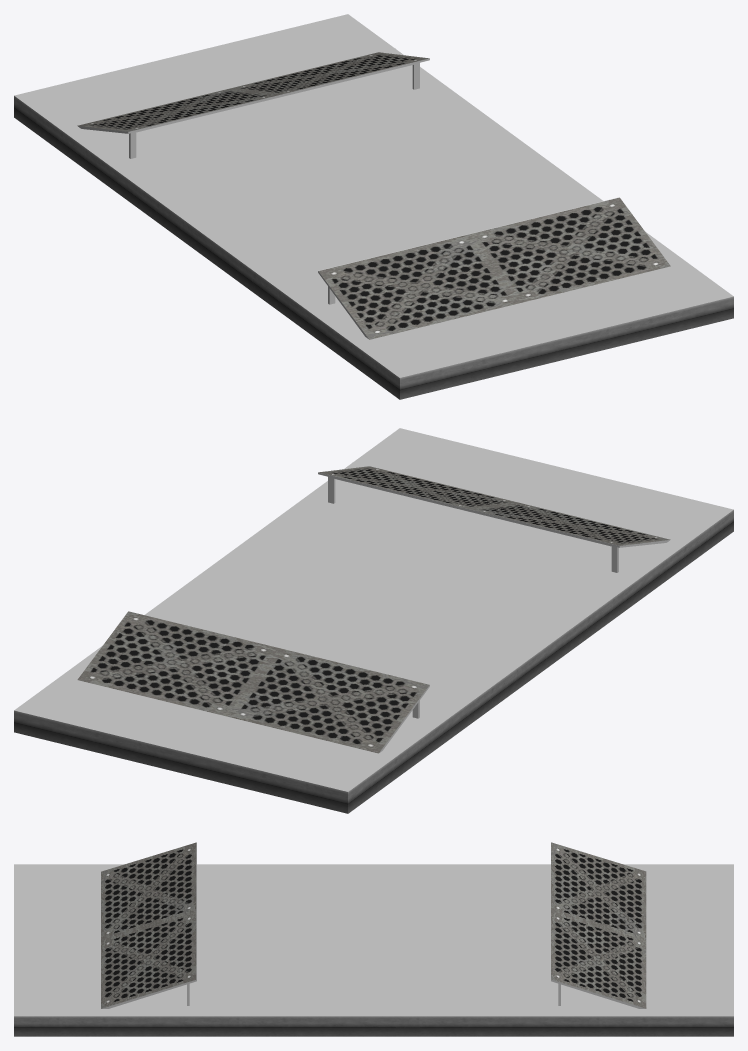
The model's file is Ramps01.fbx.
3 renders of one model, top to bottom at view 1: azimuth 30°, elevation 25°; view 2: azimuth 150°, elevation 25°; view 3: azimuth 270°, elevation 25°, orthographic. The views are drawn at different scales.
Visible parts, largest first — view 1: Empty_Mesh; view 2: Empty_Mesh; view 3: Empty_Mesh.
Boxes of the visible parts, x1,y1,x2,y2 form: Empty_Mesh: (14,14,733,399); Empty_Mesh: (14,428,733,813); Empty_Mesh: (14,842,733,1036).
Bounding box in the file's own units: 1600 × 244 × 3200.
